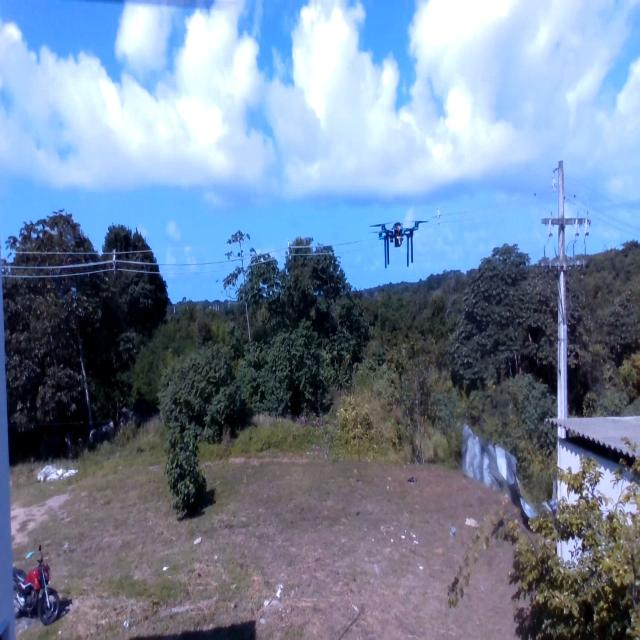-uav-: (362, 209, 433, 273)
